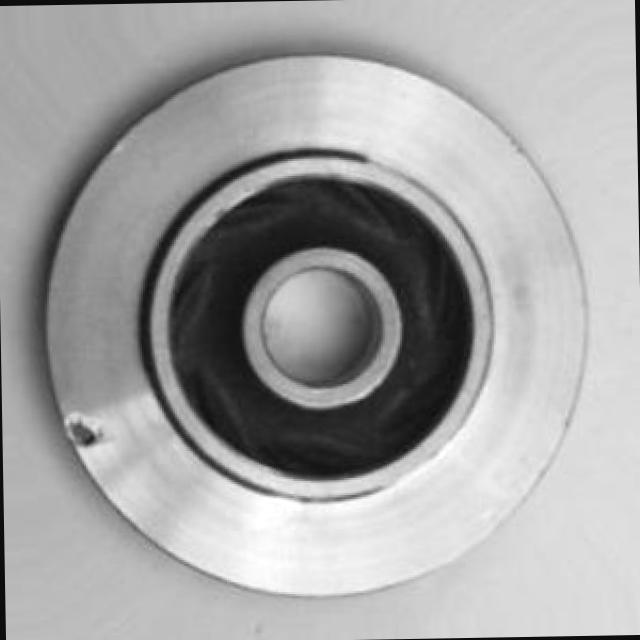Defect: (60, 406, 118, 461)
